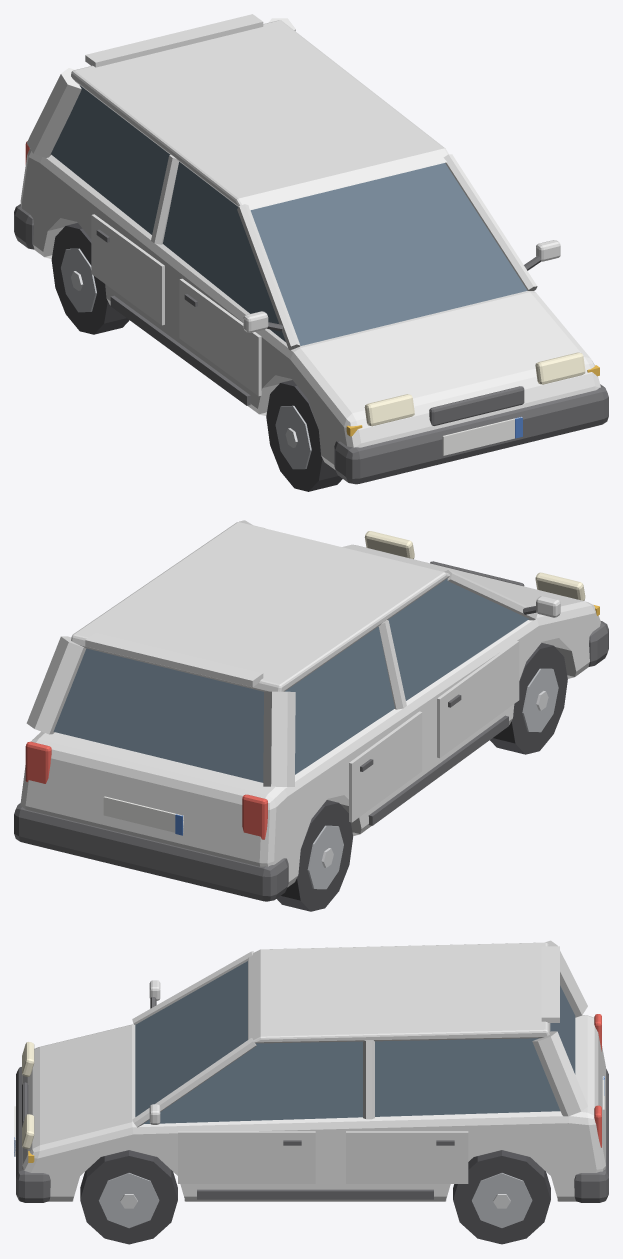
Rendered from car-small.glb.
3 renders of one model, top to bottom at view 1: azimuth 30°, elevation 25°; view 2: azimuth 150°, elevation 25°; view 3: azimuth 270°, elevation 25°, orthographic. The views are drawn at different scales.
Visible parts, largest first — view 1: body, detach_bumper_front, detach_door_right, wheel-front-right, wheel-back-right, detach_bumper_back; view 2: body, detach_bumper_back, detach_door_right, wheel-back-right, wheel-front-right, detach_bumper_front, detach_mirror_right; view 3: body, detach_door_left, wheel-front-left, wheel-back-left, detach_bumper_front, detach_bumper_back.
Part boxes in pixels (x1,y1,x2,y2): body: (20, 14, 600, 469); detach_bumper_front: (334, 384, 608, 484); detach_door_right: (179, 278, 261, 396); wheel-front-right: (266, 380, 342, 491); wheel-back-right: (51, 223, 129, 334); detach_bumper_back: (14, 204, 34, 249); body: (20, 520, 600, 887); detach_bumper_back: (14, 803, 288, 901); detach_door_right: (437, 640, 519, 758); wheel-back-right: (277, 800, 353, 911); wheel-front-right: (490, 642, 567, 754); detach_bumper_front: (588, 621, 608, 666); detach_mirror_right: (523, 596, 560, 617); body: (22, 940, 605, 1201); detach_door_left: (178, 1131, 315, 1183); wheel-front-left: (80, 1150, 177, 1244); wheel-back-left: (453, 1150, 550, 1244); detach_bumper_front: (14, 1067, 50, 1202); detach_bumper_back: (574, 1068, 608, 1202).
Bounding box in the file's own units: 2.06 × 1.52 × 3.89.
